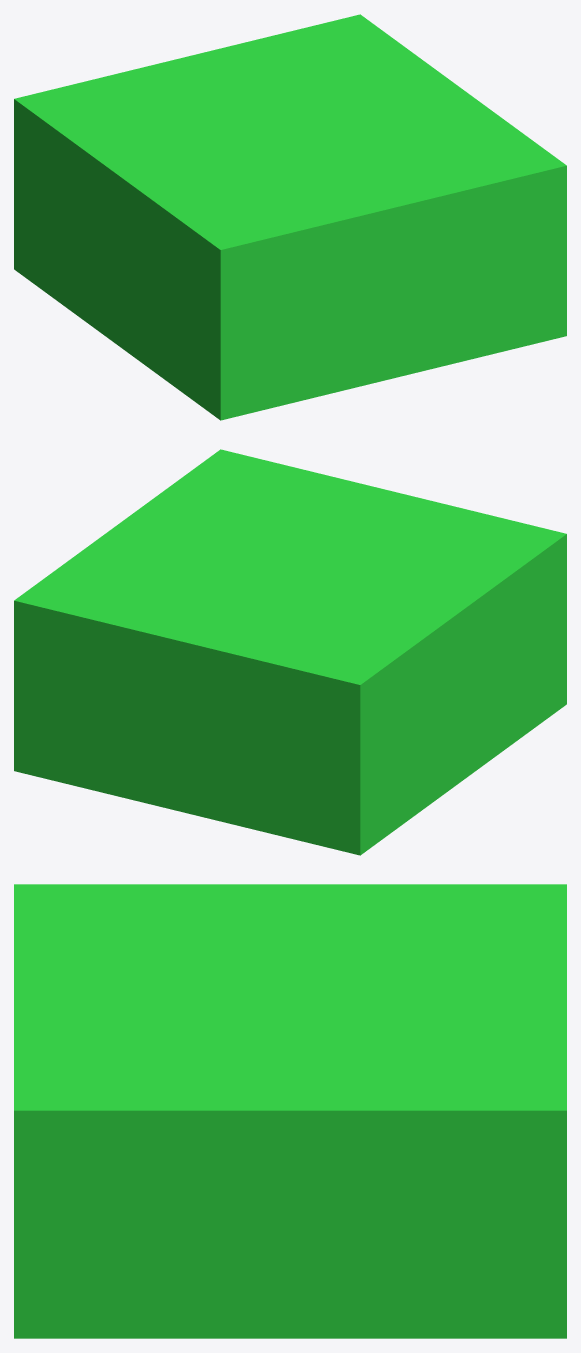
Rendered from SquareGreen.glb.
The picture shows the model from 3 angles, top to bottom: view 1: azimuth 30°, elevation 25°; view 2: azimuth 150°, elevation 25°; view 3: azimuth 270°, elevation 25°; orthographic projection. The views are drawn at different scales.
Parts seen in each view (by area): view 1: Cube.002; view 2: Cube.002; view 3: Cube.002.
Boxes of the visible parts, left/top/right/bottom form: Cube.002: left=14, top=14, right=566, bottom=420; Cube.002: left=14, top=449, right=566, bottom=855; Cube.002: left=14, top=884, right=566, bottom=1338.
Size of the model in its own units: 60 by 28.22 by 62.
